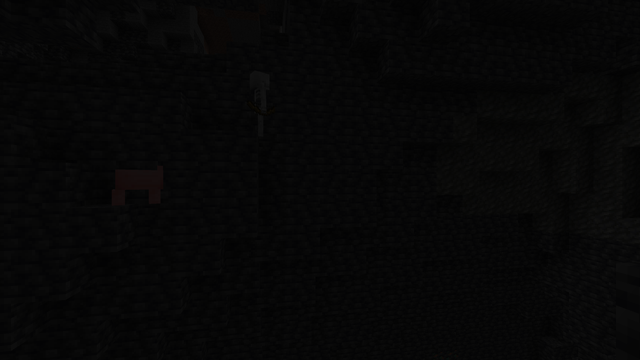cochons: (109, 168, 157, 204)
squelettes: (248, 70, 268, 138)
